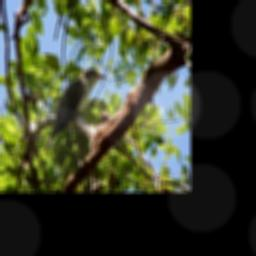Cuckoo: (45, 68, 107, 154)
